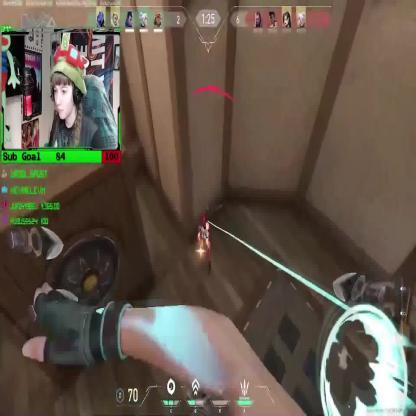enemy: (196, 210, 212, 275)
enemy_head: (201, 212, 207, 226)
